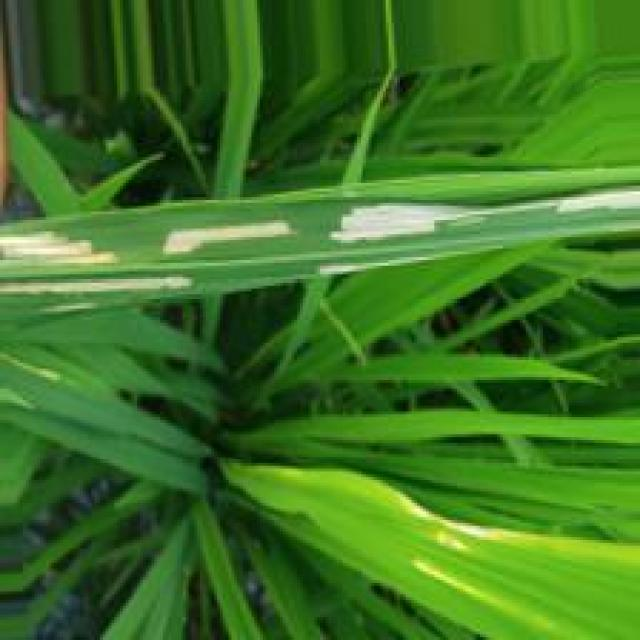Rice_Hispa: (335, 182, 640, 235), (0, 224, 130, 268), (162, 220, 299, 255)
